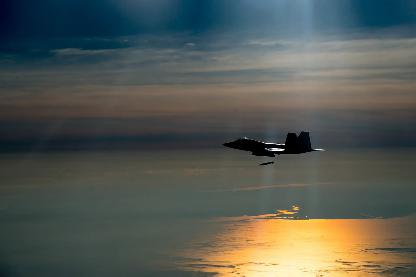F18: (221, 131, 325, 156)
